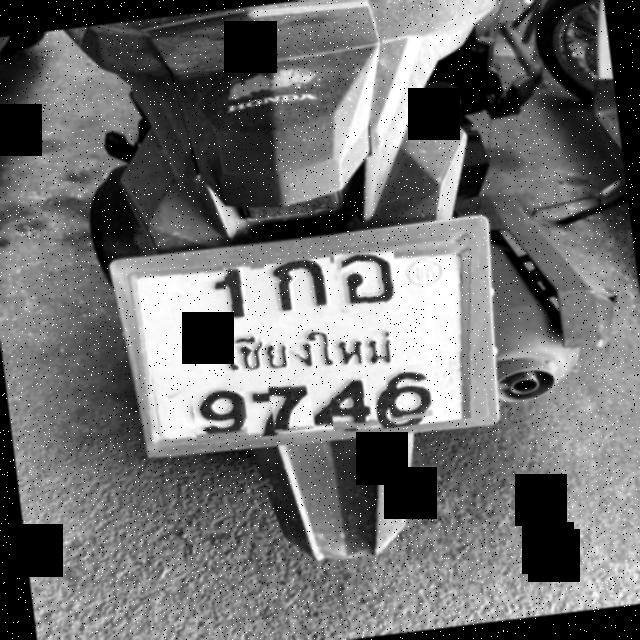letters: (264, 256, 336, 323), (334, 244, 401, 316), (189, 372, 251, 444), (327, 371, 379, 430), (384, 363, 432, 422), (222, 252, 258, 324), (268, 380, 314, 432)
license-plate: (125, 236, 483, 449)
province: (202, 306, 420, 386)
